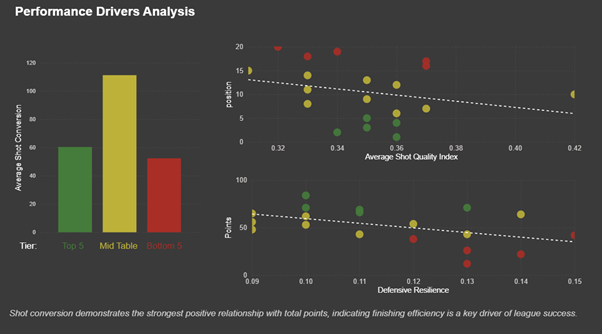

The dashboard page shown, as its layout file describes it:
{"tool":"powerbi","page":{"name":"Performance Drivers Analysis","canvas":[1280,720],"ordinal":1},"visuals":[{"type":"textbox","box":[40,20,1200,50],"z":0},{"type":"scatterChart","fields":{"Series":["KPI table.Tier"],"X":["Avg(KPI table.shot_quality_index)"],"Y":["KPI table.position"]},"box":[480,100,760,260],"z":1000},{"type":"scatterChart","fields":{"X":["KPI table.defensive_resilience"],"Y":["KPI table.total_points"],"Series":["KPI table.Tier"]},"box":[480.3,380.1,760.2,260],"z":2000},{"type":"clusteredColumnChart","fields":{"Category":["KPI table.Tier"],"Y":["Sum(KPI table.shot_conversion)"]},"box":[39.8,134.5,400,383],"z":3000,"group":"g1"},{"type":"textbox","box":[27.4,658.7,1213,49.4],"z":3000},{"type":"group","id":"g1","title":"Group 1","box":[39.8,134.5,400.7,450.1],"z":4000},{"type":"textbox","box":[49.4,517.5,380,67],"z":4000,"group":"g1"}]}

Visuals, with their boxes in screenshot pixels (x1, y1, x2, y2), scaled from the page's 1280x720 canvas onto the 602x334 screenshot:
textbox: [19,9,583,32]
scatterChart - KPI table.Tier x Avg(KPI table.shot_quality_index): [226,46,583,167]
scatterChart - KPI table.defensive_resilience x KPI table.total_points: [226,176,583,297]
clusteredColumnChart - KPI table.Tier x Sum(KPI table.shot_conversion): [19,62,207,240]
textbox: [13,306,583,328]
"Group 1" group: [19,62,207,271]
textbox: [23,240,202,271]
